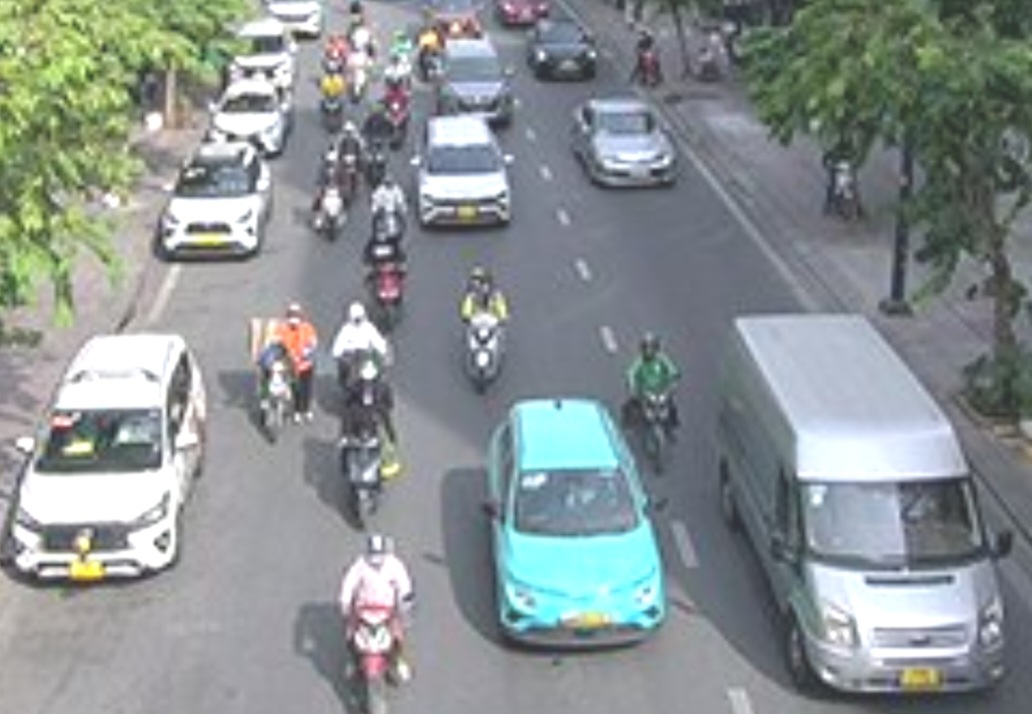car: (713, 306, 1009, 694), (3, 331, 223, 579), (479, 398, 675, 648), (160, 140, 271, 261), (407, 120, 514, 228), (571, 97, 684, 191), (437, 43, 514, 126), (205, 83, 291, 153), (225, 22, 301, 84), (529, 20, 597, 83)
